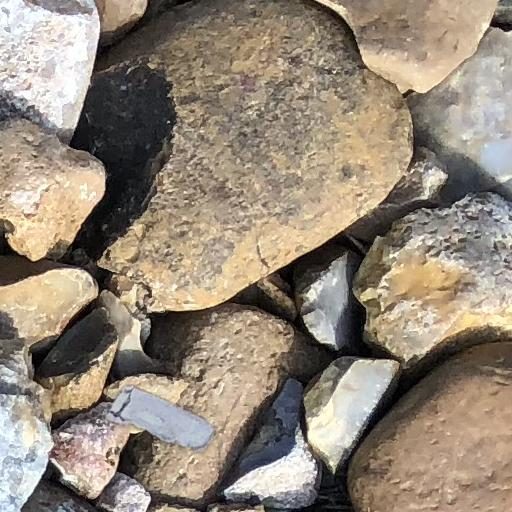smoke: (106, 387, 214, 452)
